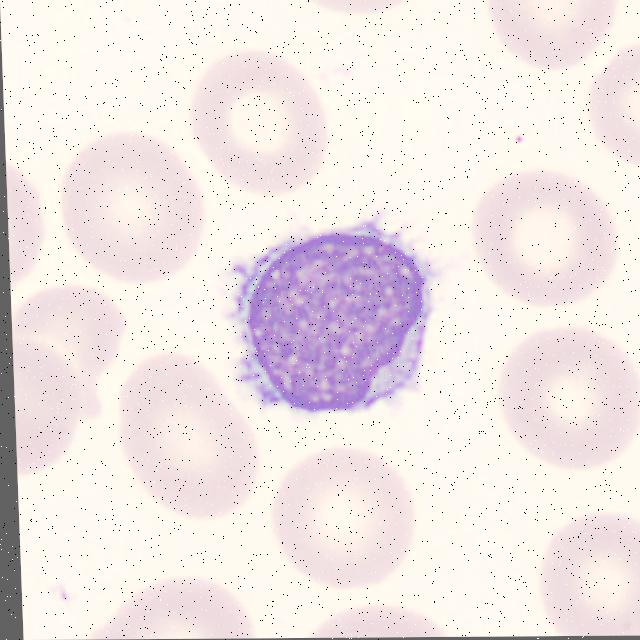lymphocyte: (225, 222, 465, 422)
rbc: (109, 347, 260, 517), (469, 165, 618, 307), (191, 49, 335, 190), (500, 326, 640, 464), (57, 133, 196, 270), (274, 444, 413, 581), (526, 512, 640, 635), (24, 289, 123, 429), (12, 320, 91, 492), (88, 580, 254, 639), (480, 0, 616, 65), (585, 47, 640, 163), (6, 160, 49, 279), (305, 607, 445, 638), (295, 0, 412, 18)
